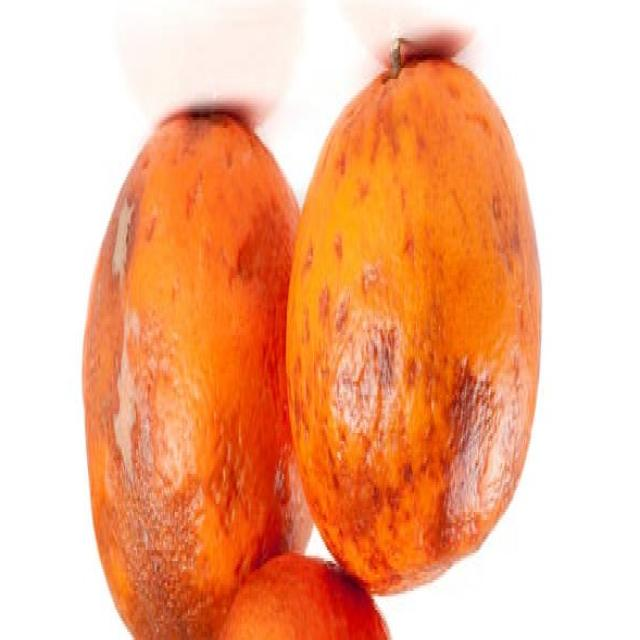overripe: (282, 35, 545, 601), (77, 101, 302, 640)
